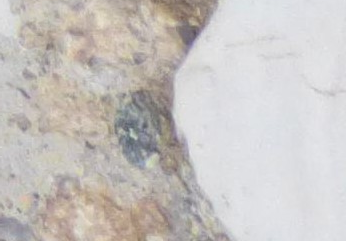Spalling: (1, 1, 236, 241)
